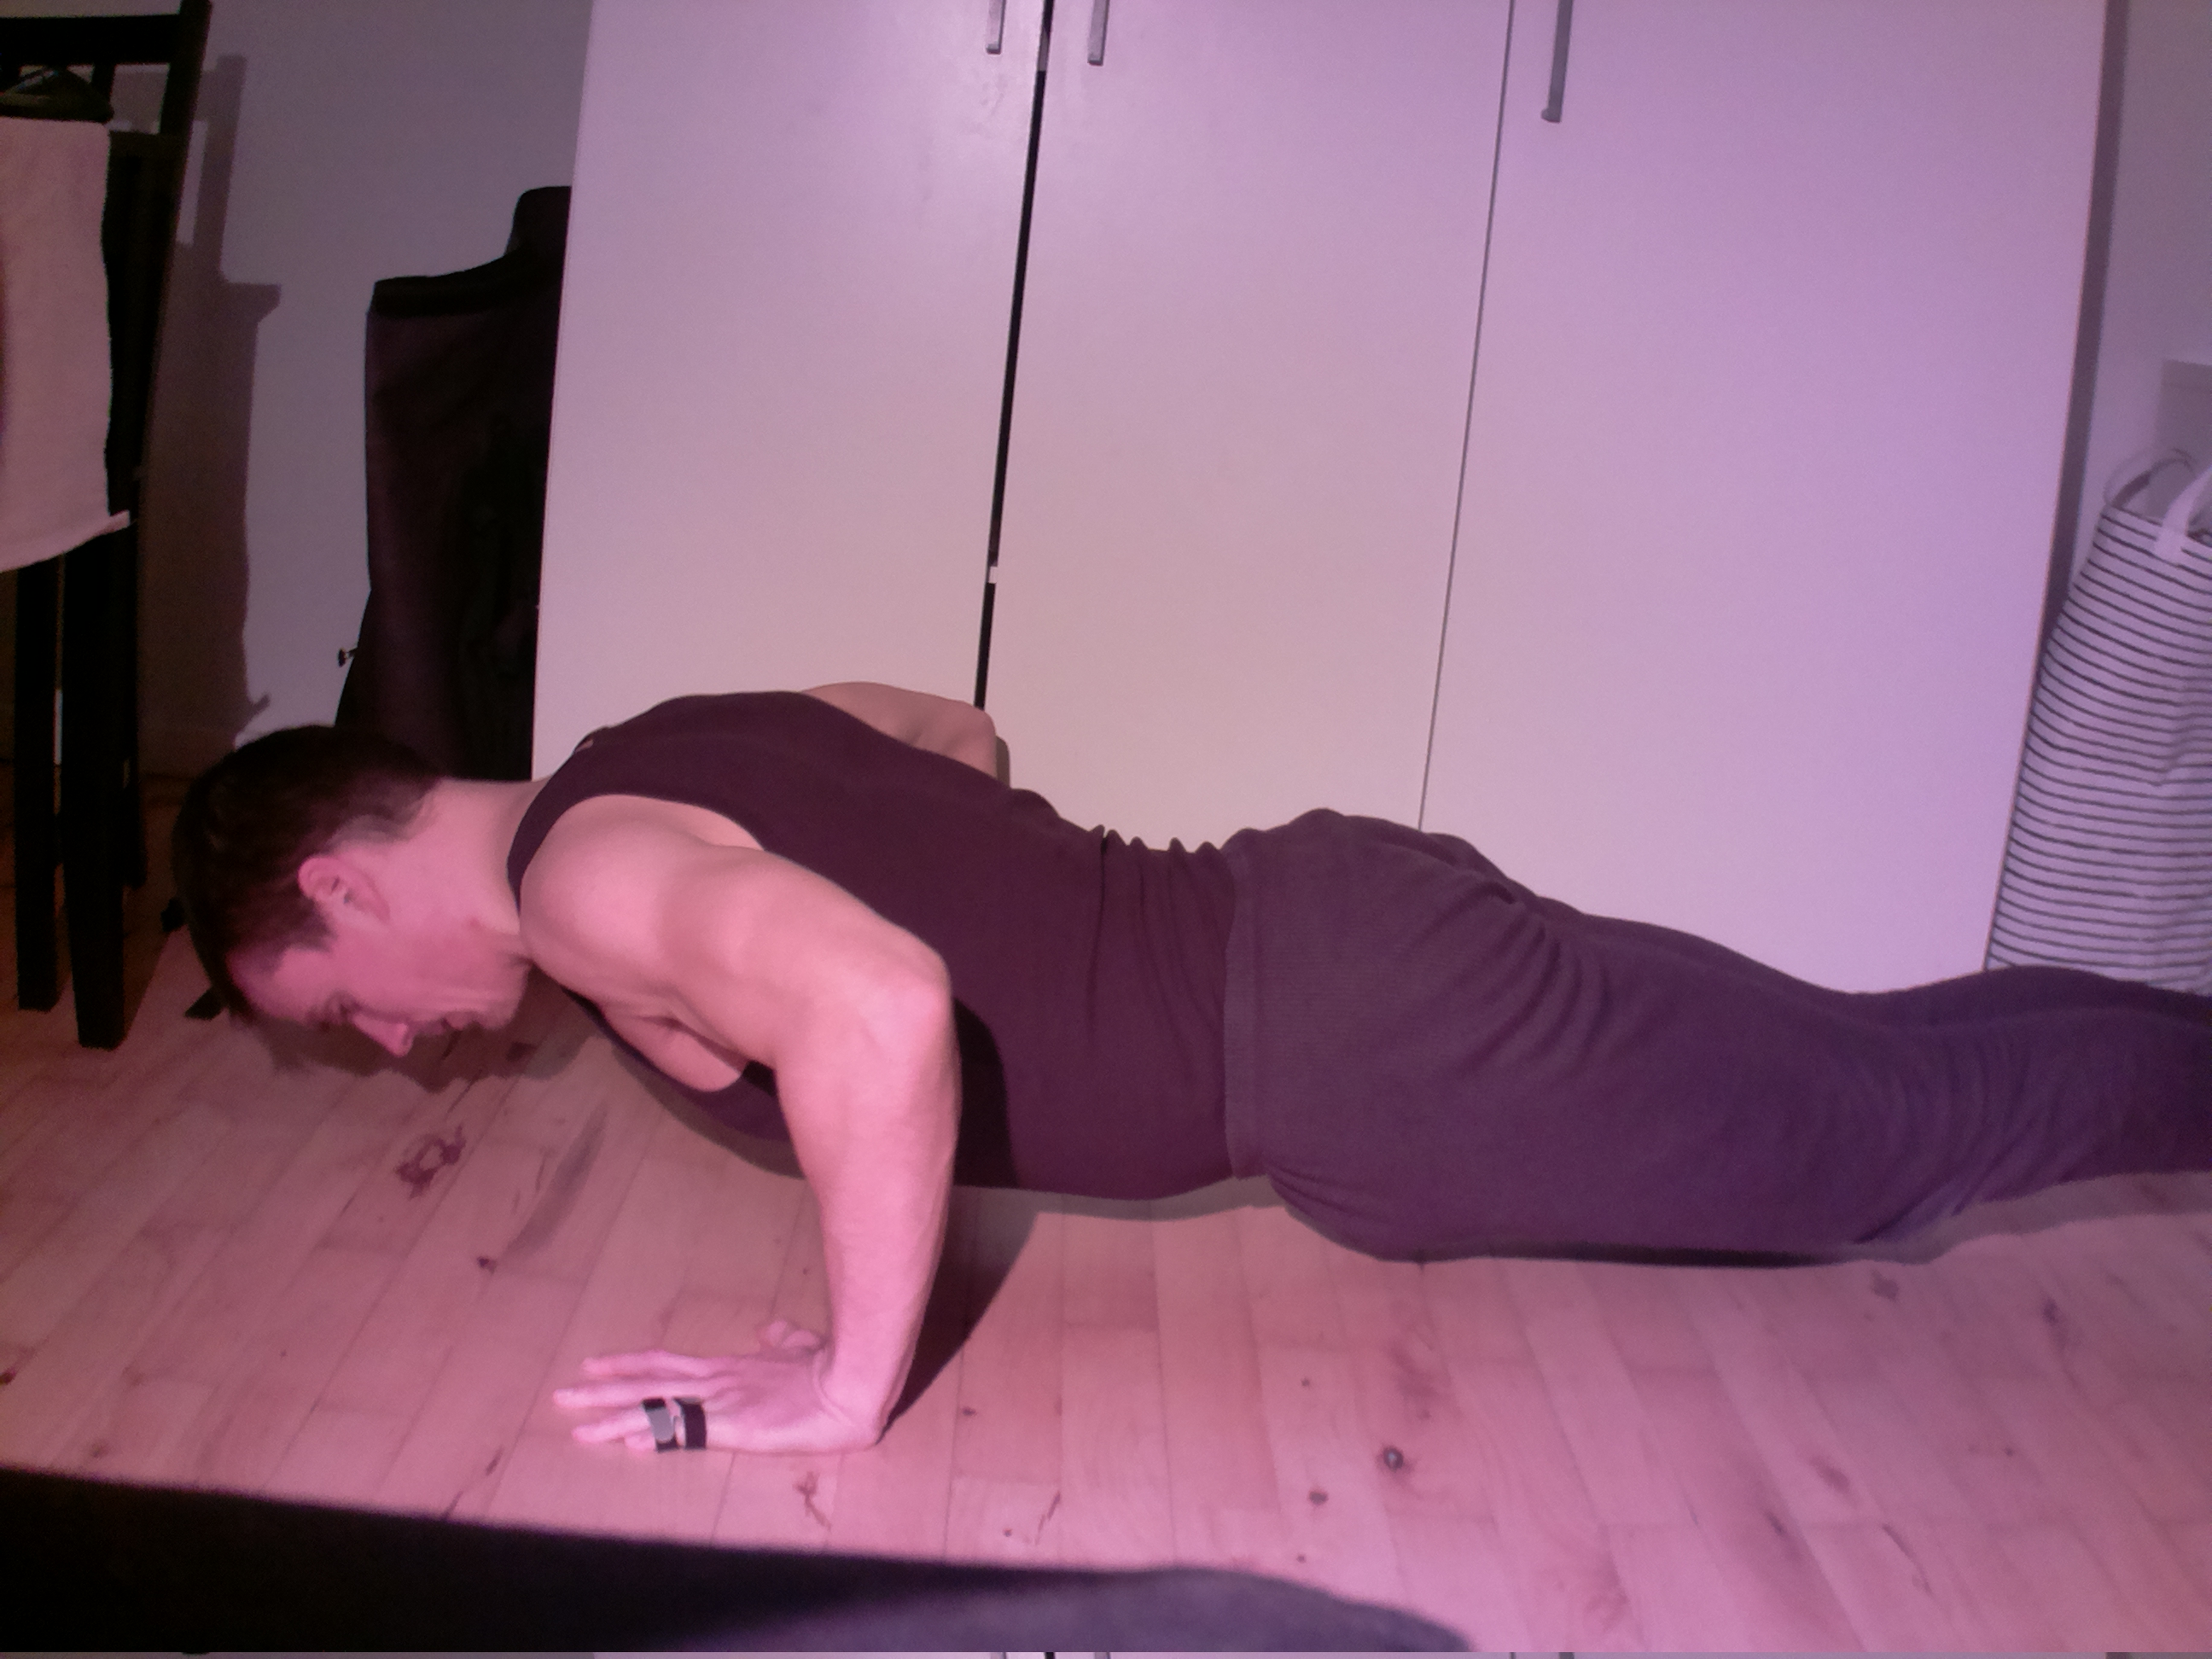CONAN: (167, 664, 1479, 1497)
